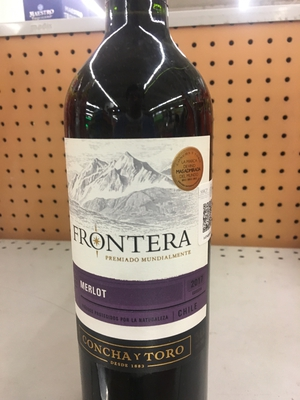frontera merlot: (66, 6, 204, 400)
